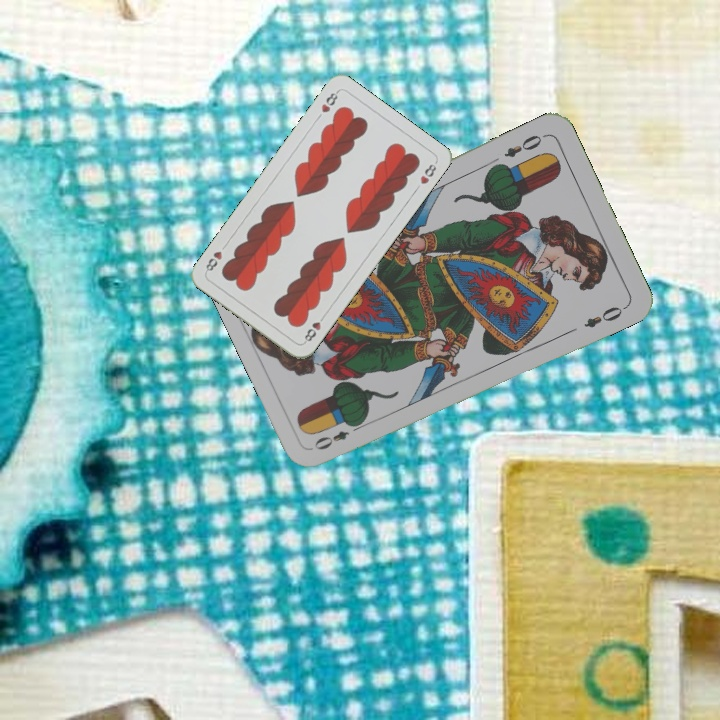EO: (310, 419, 365, 453), (500, 130, 549, 160)
H8: (300, 310, 328, 346), (317, 87, 341, 115)
